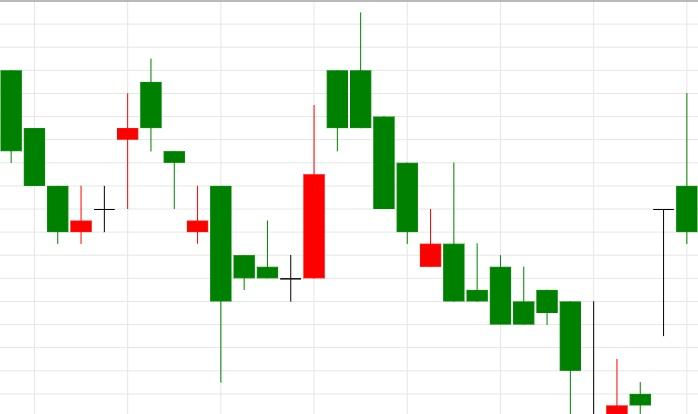morning_star_rise: (140, 58, 325, 383)
